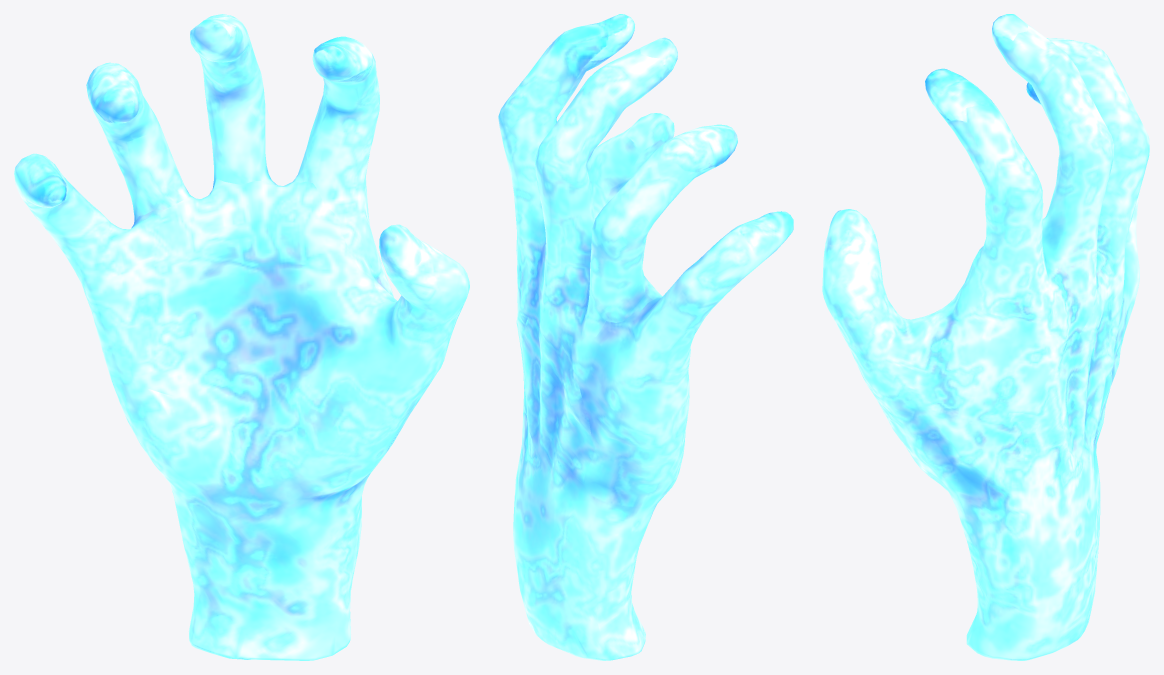
Rendered from MZ4250 - Bigby's Hand_blue.glb.
3 views of the same model, side by side, from view 1: azimuth 30°, elevation 25°; view 2: azimuth 150°, elevation 25°; view 3: azimuth 270°, elevation 25° (orthographic). The views are drawn at different scales.
Visible parts, largest first — view 1: Creepy Hand.001; view 2: Creepy Hand.001; view 3: Creepy Hand.001.
Boxes of the visible parts, bbox=[...] form: Creepy Hand.001: bbox=[14, 14, 469, 660]; Creepy Hand.001: bbox=[498, 14, 793, 660]; Creepy Hand.001: bbox=[822, 14, 1149, 660].
Size of the model in its own units: 0.9845 by 1.87 by 0.9446.
1 material, 1 textured.
